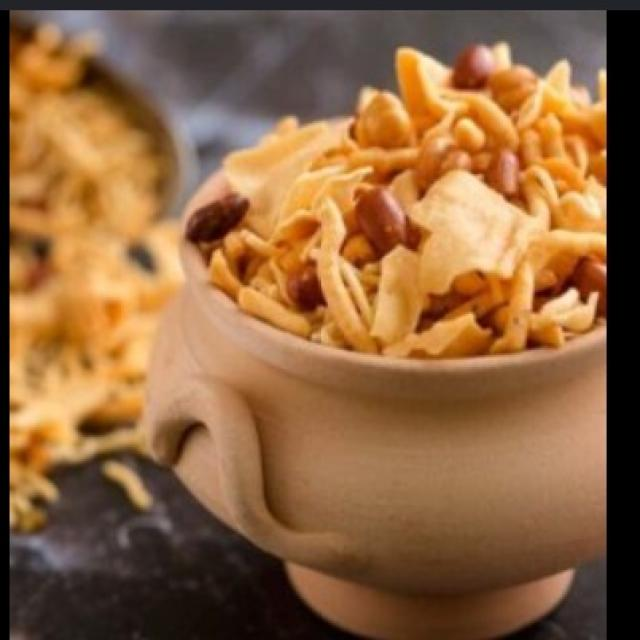Mattai: (192, 26, 640, 371), (8, 9, 184, 552)
